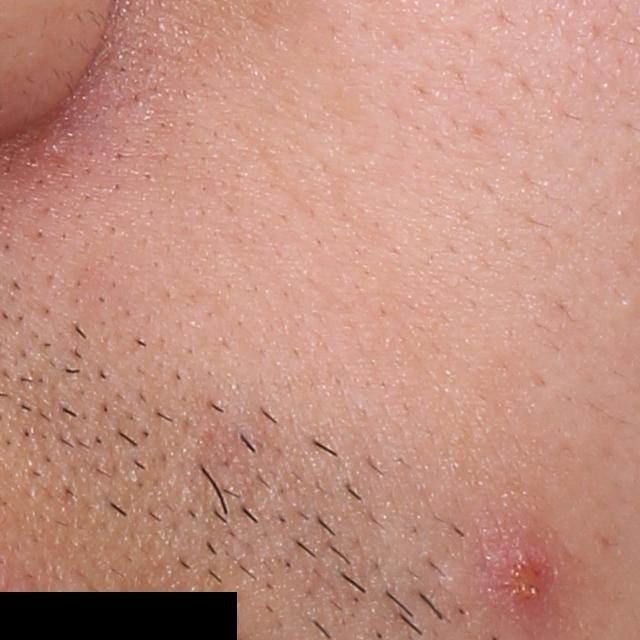papule: (483, 524, 570, 617)
